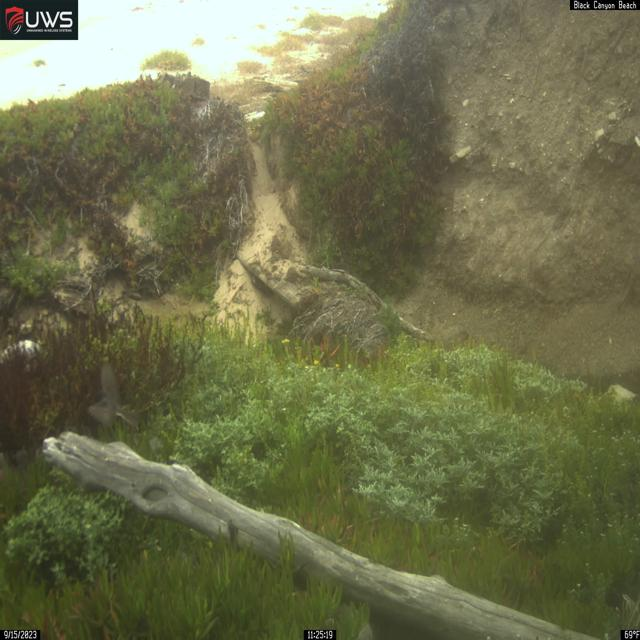bird: (86, 361, 141, 430)
